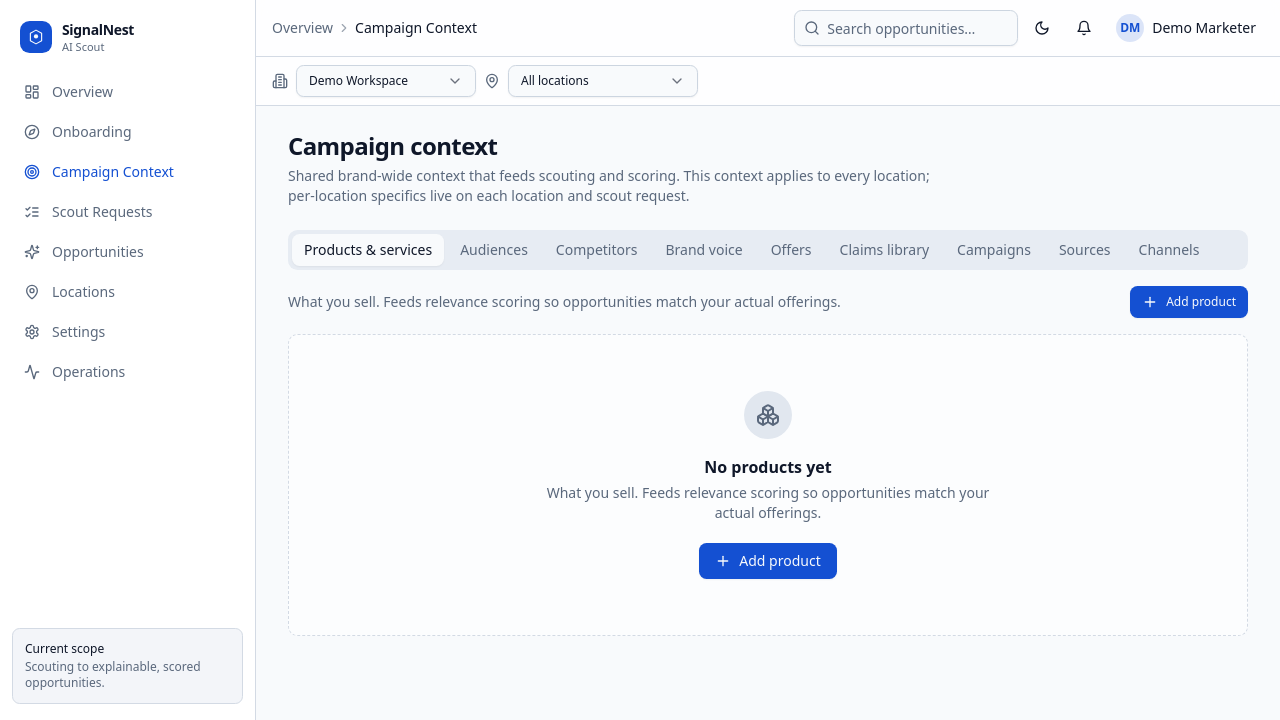
it: campaign context center › opens the add-product dialog
expect the heading "Campaign context" is shown: met, box [288,129,497,162]
Click the 1st button "Add product": (1189, 302) [1130,286,1248,318]
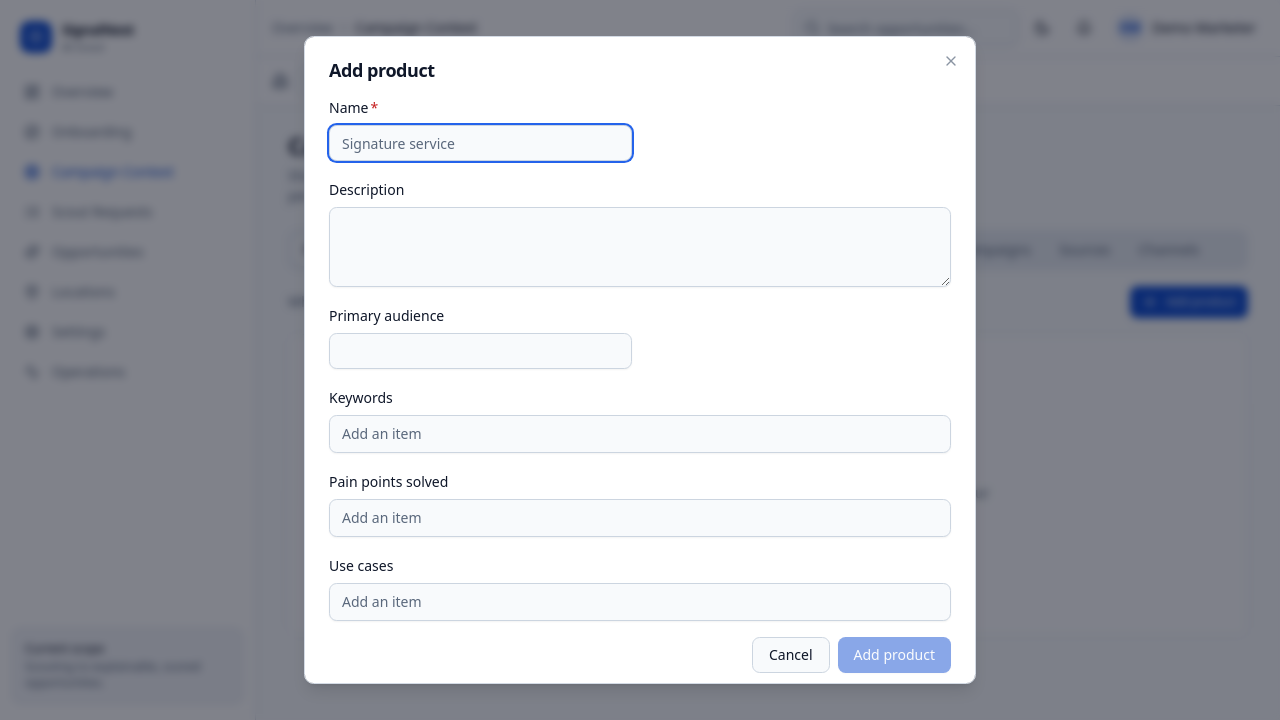
expect the dialog is shown: met, box [304,36,976,684]
expect the heading "Add product" is shown: met, box [329,58,435,82]
